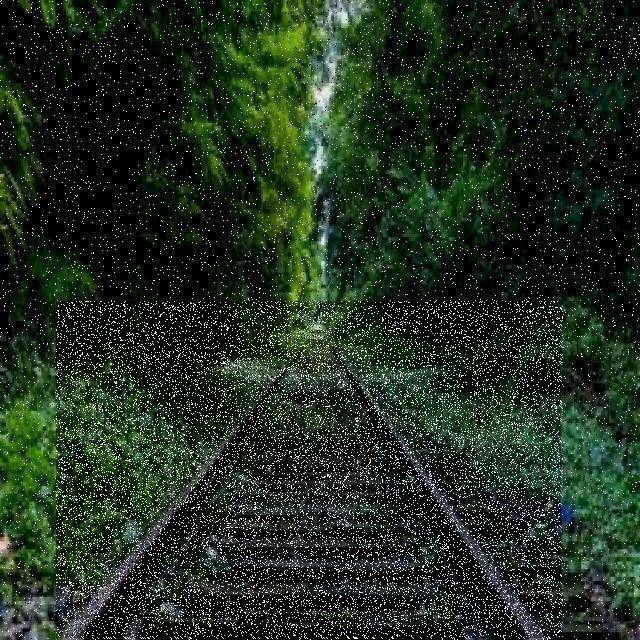rail: (57, 302, 562, 639)
